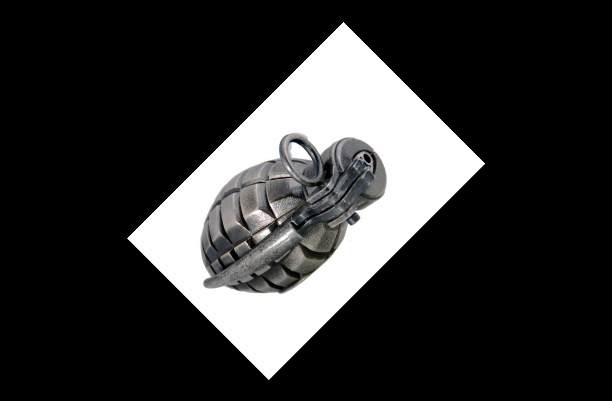e1: (199, 137, 389, 294)
